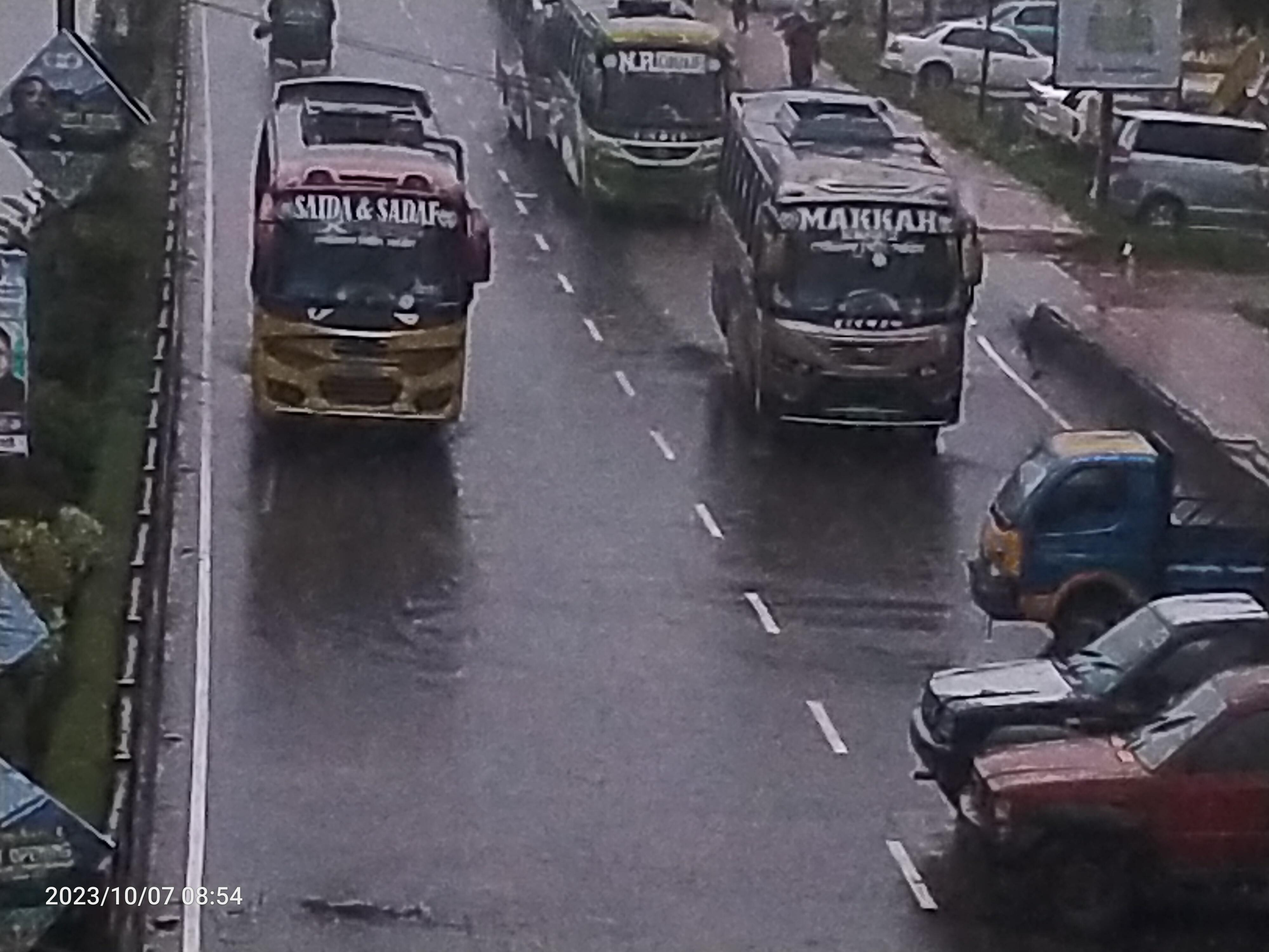Bus: (704, 78, 1008, 489), (227, 65, 508, 486), (524, 0, 772, 235)
Car: (1068, 84, 1269, 249), (853, 0, 1085, 77)
Truck: (857, 571, 1269, 813), (898, 660, 1269, 920), (959, 408, 1257, 644)
